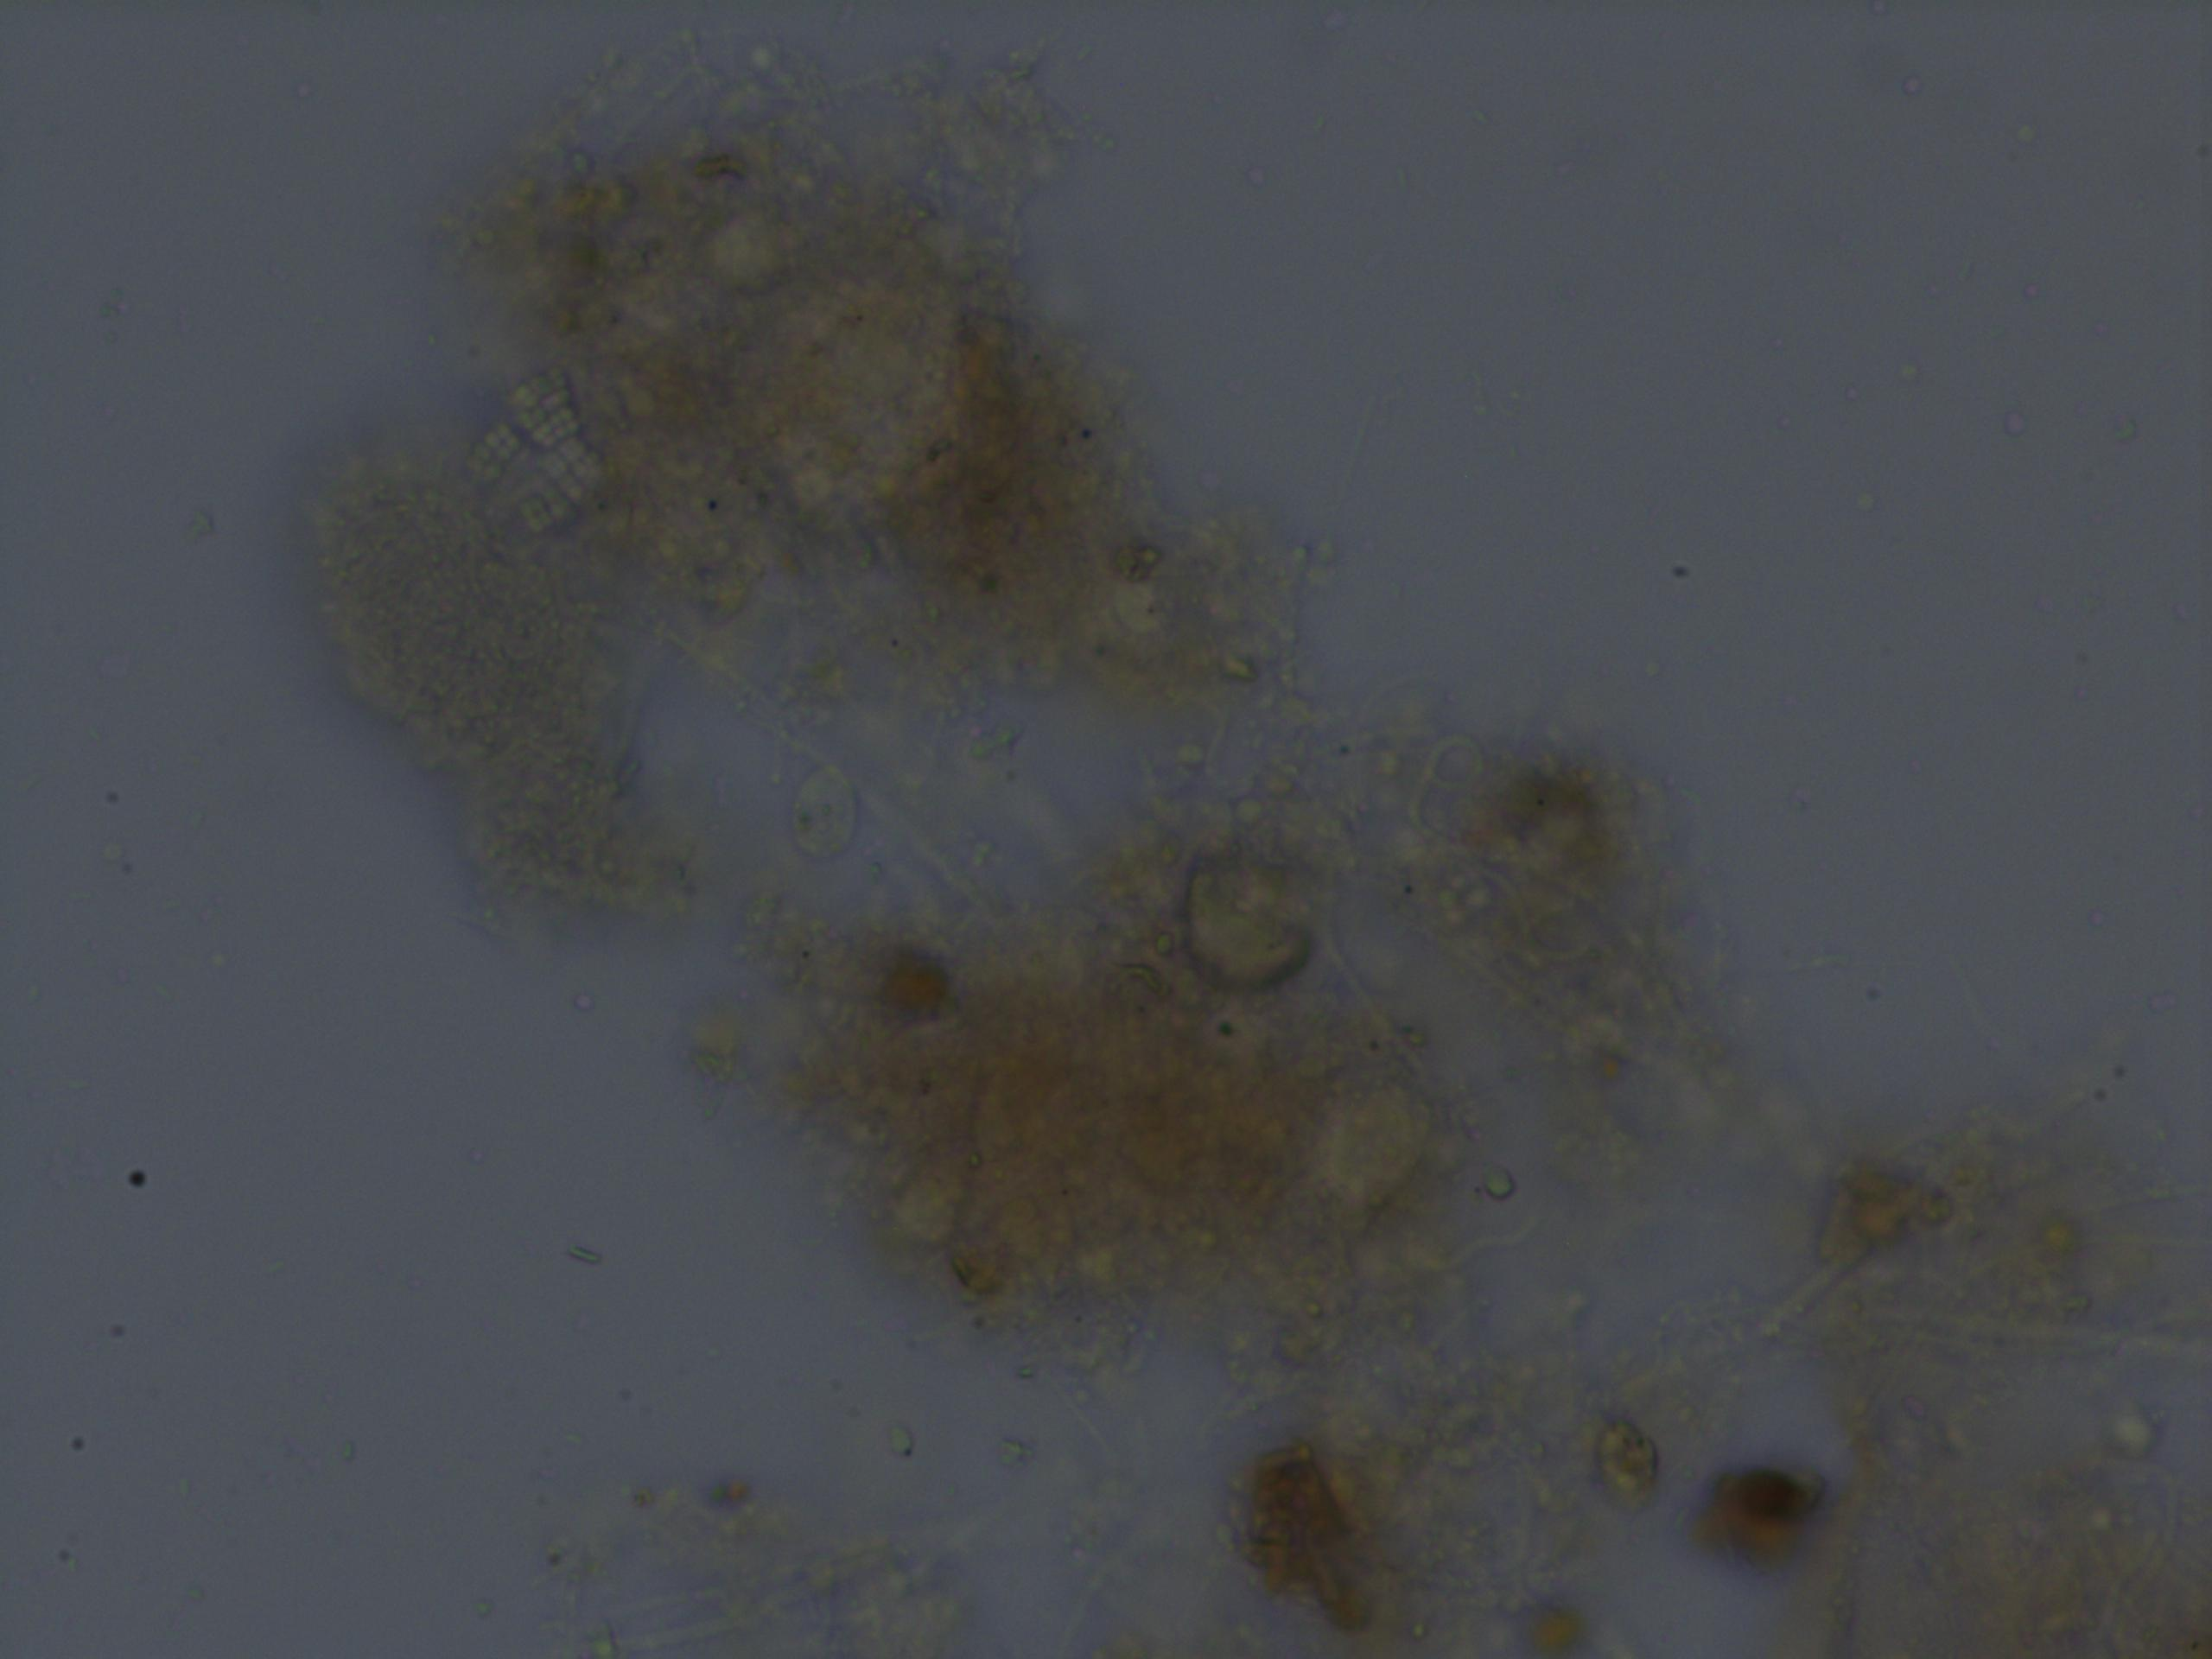open_floc: (294, 42, 2212, 1659)
